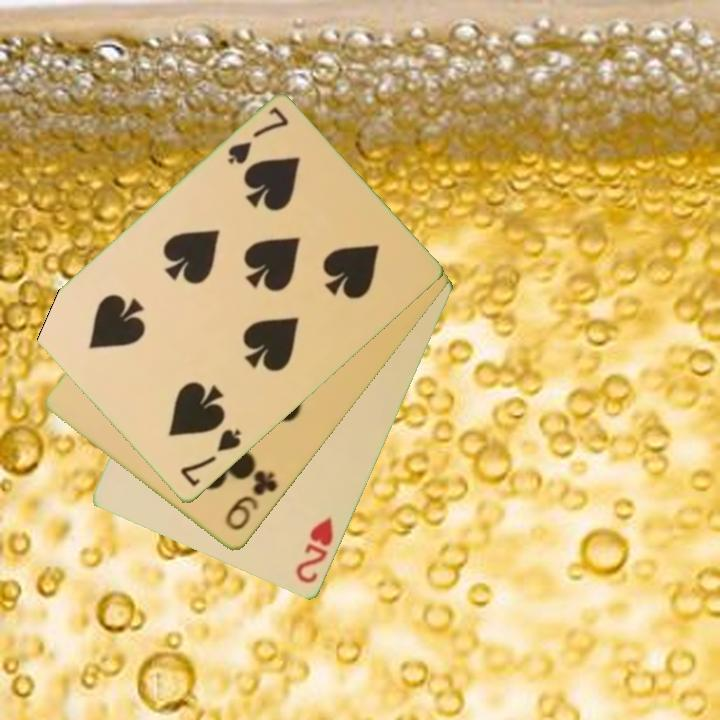2h: (292, 513, 337, 588)
7s: (223, 103, 292, 168), (176, 426, 244, 491)
9c: (221, 467, 281, 534)
